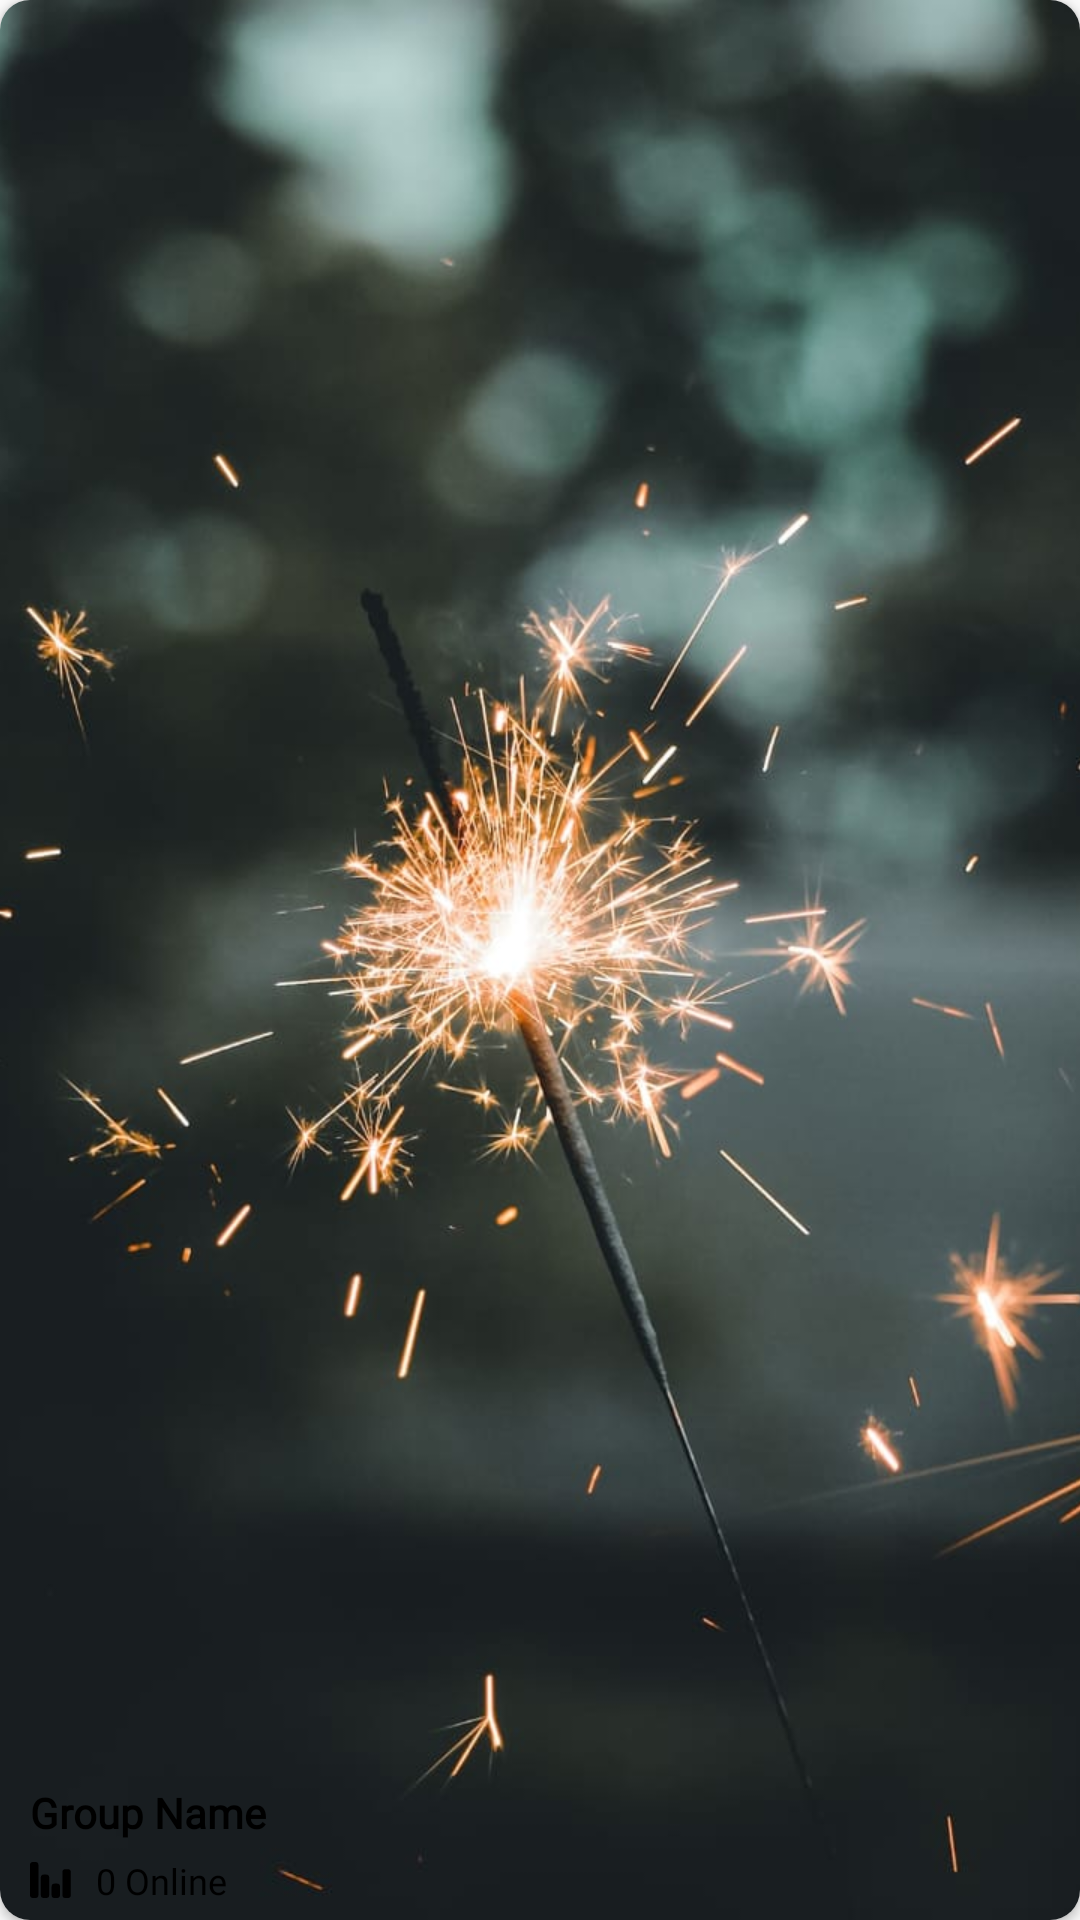

Point at icon controls on the screen. Image size 1080px x 1920px, points as (x=x, y=y).
playing: (x=50, y=1880)
